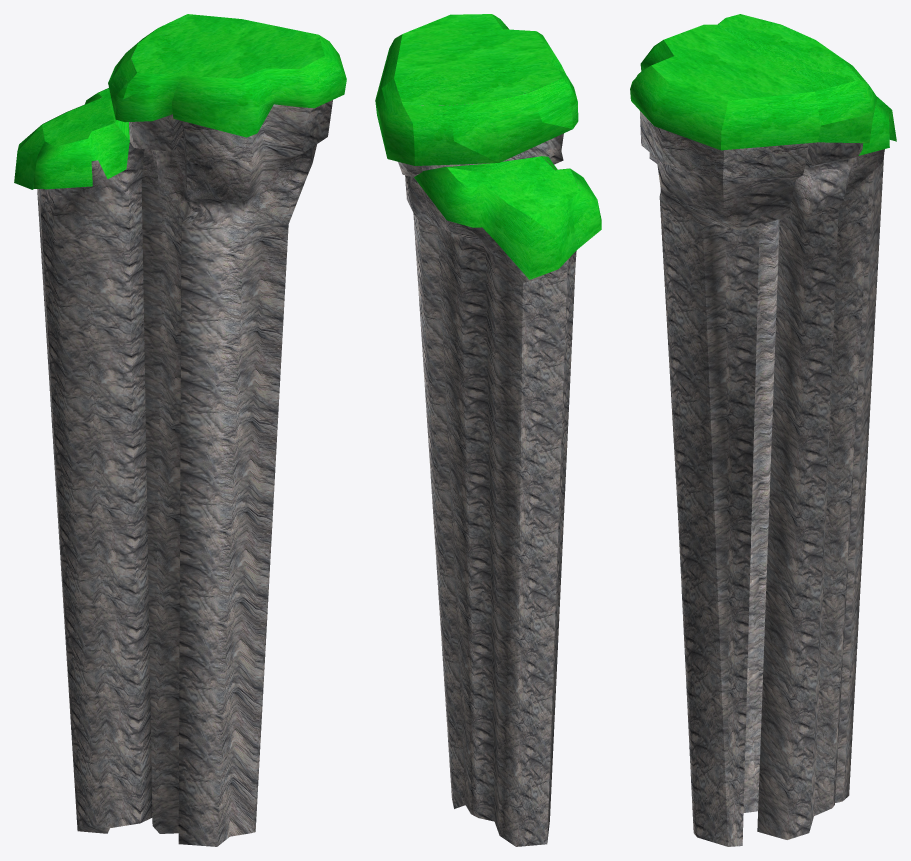
The model's file is input.glb.
The picture shows the model from 3 angles, left to right: view 1: azimuth 30°, elevation 25°; view 2: azimuth 150°, elevation 25°; view 3: azimuth 270°, elevation 25°; orthographic projection. The views are drawn at different scales.
Parts seen in each view (by area): view 1: ghz01E_km1_rockA03L_26.002; view 2: ghz01E_km1_rockA03L_26.002; view 3: ghz01E_km1_rockA03L_26.002.
Boxes of the visible parts, x1,y1,x2,y2 form: ghz01E_km1_rockA03L_26.002: (14,14,346,846); ghz01E_km1_rockA03L_26.002: (375,14,601,846); ghz01E_km1_rockA03L_26.002: (630,14,896,846).
Bounding box in the file's own units: 7.56 × 21.42 × 6.51.
2 materials, 2 textured.
